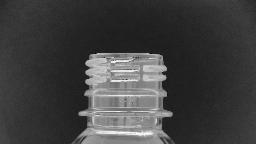No Cap: (74, 49, 176, 119)
